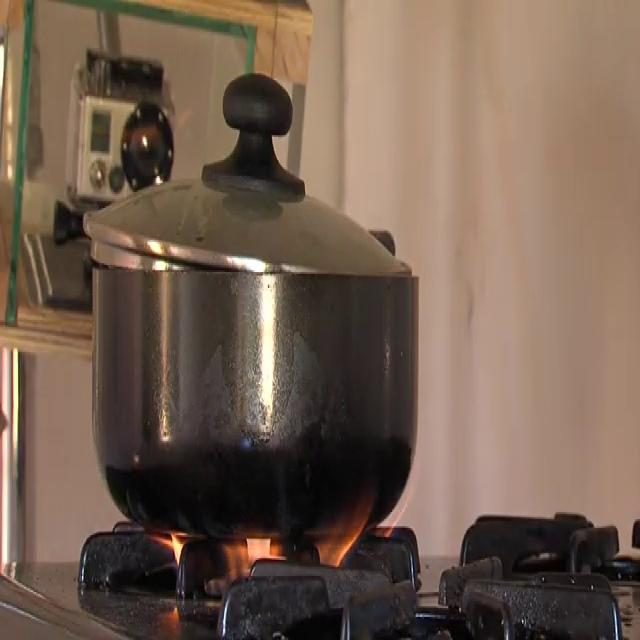fire: (120, 498, 408, 602)
